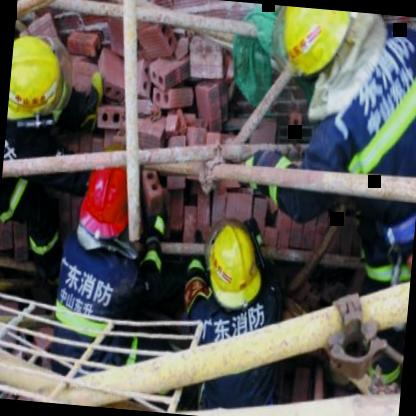helmet: (76, 165, 142, 257), (6, 33, 70, 127), (280, 7, 359, 81), (204, 219, 266, 304)
